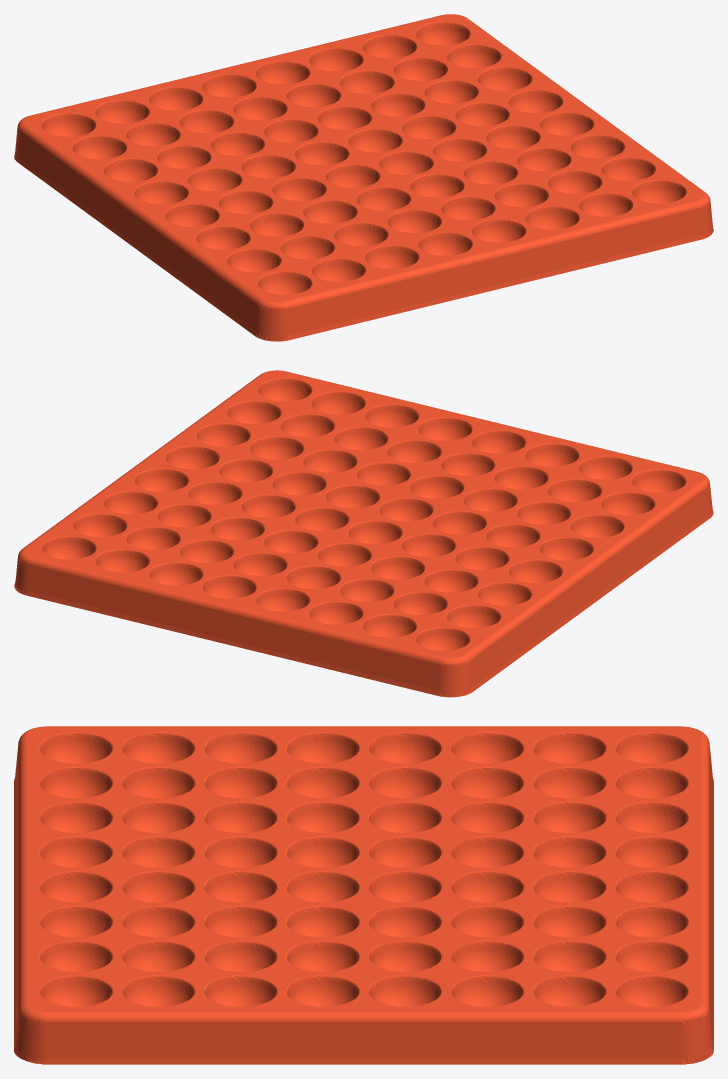
The model's file is mold.glb.
3 views of the same model, one above another, from view 1: azimuth 30°, elevation 25°; view 2: azimuth 150°, elevation 25°; view 3: azimuth 270°, elevation 25° (orthographic). The views are drawn at different scales.
Visible parts, largest first — view 1: geometry_0; view 2: geometry_0; view 3: geometry_0.
Part boxes in pixels (<box>): geometry_0: <box>14,14,713,341</box>; geometry_0: <box>14,370,713,697</box>; geometry_0: <box>14,726,713,1064</box>.
Bounding box in the file's own units: 0.1886 × 0.014 × 0.1886.
